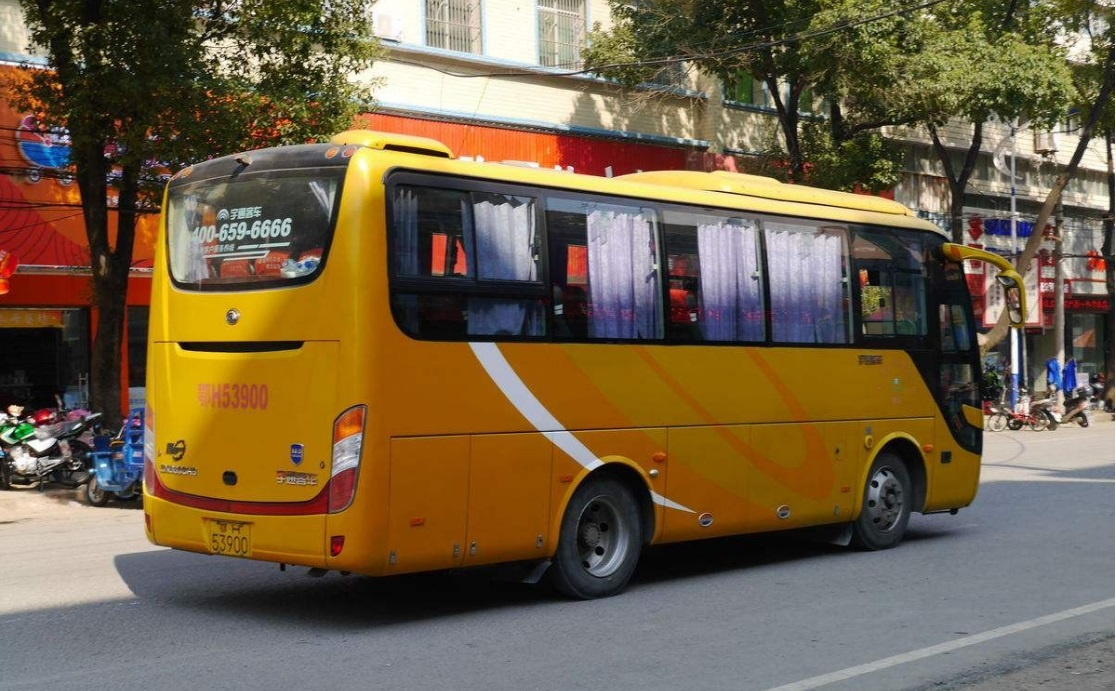bus: (139, 119, 1000, 593)
